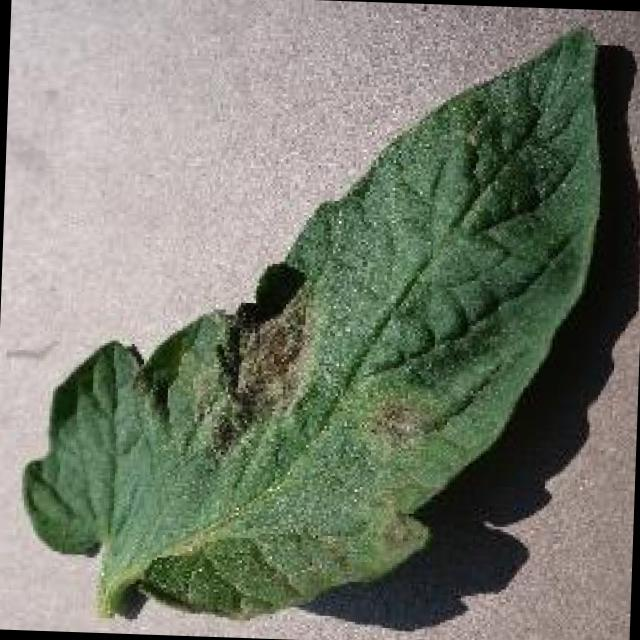Tomato_Late_Blight: (185, 240, 333, 450)
